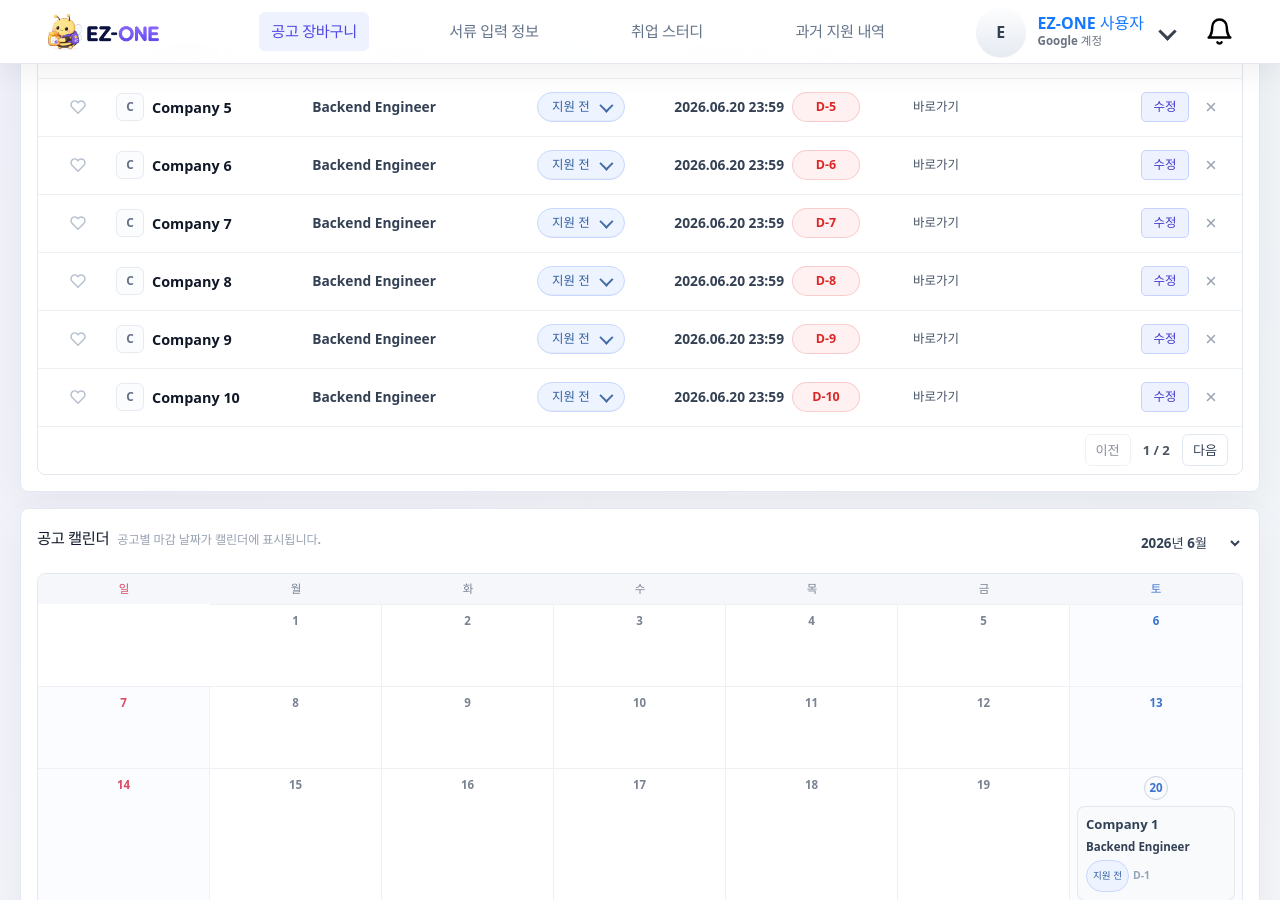
it: BasketPage › COMMON-001: paginates basket jobs after filtering and sorting
The image size is (1280, 900).
(page scrolled)
Expected: the text with test id "basket-page-status" reads "1 / 2", [1143,440,1170,458]
Step 1. Click the button with test id "basket-page-next" → x=1205, y=450, box [1182,434,1228,466]
(page scrolled)
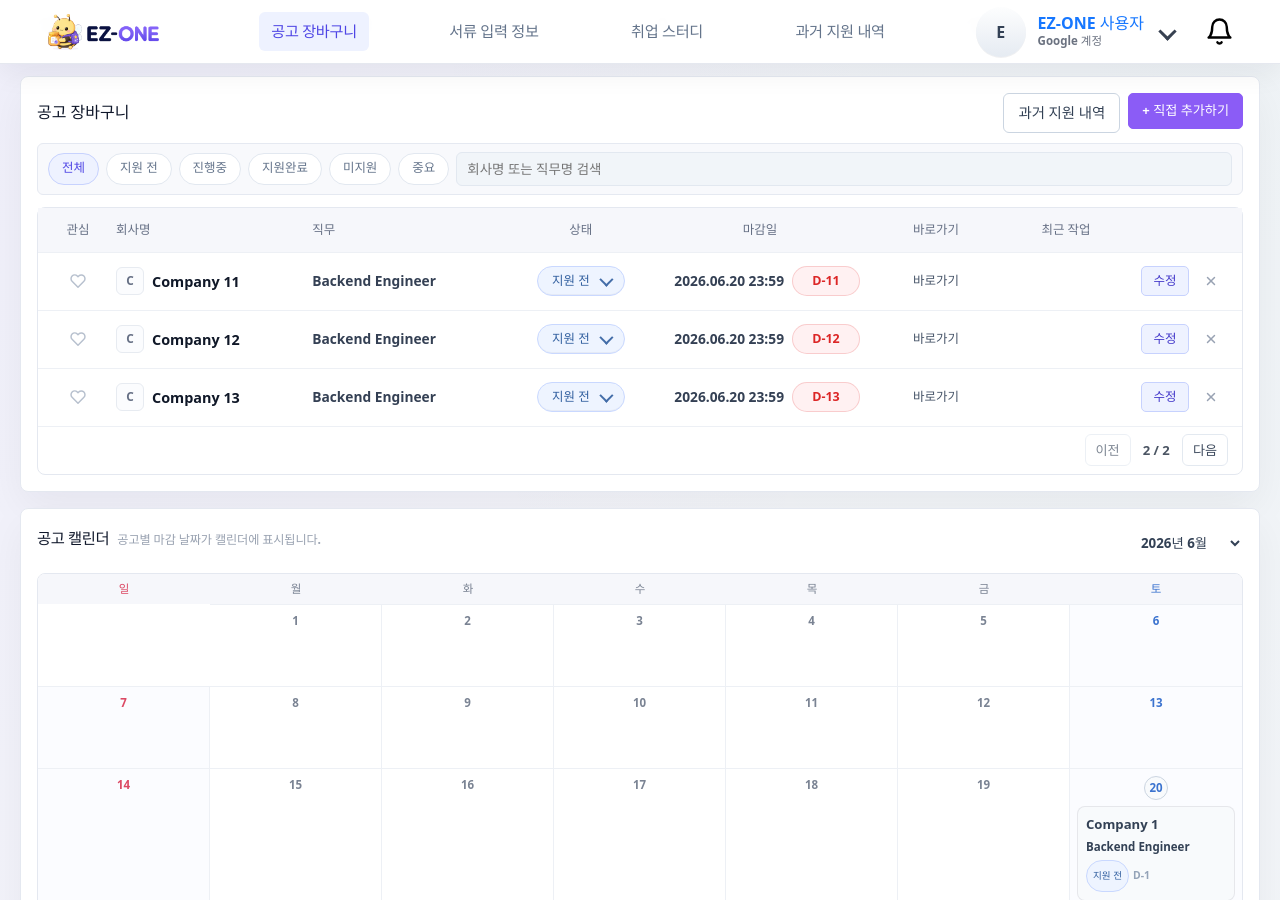
Expected: the text "Company 1" is not shown
Expected: the text with test id "basket-page-status" reads "2 / 2", [1143,440,1170,458]
